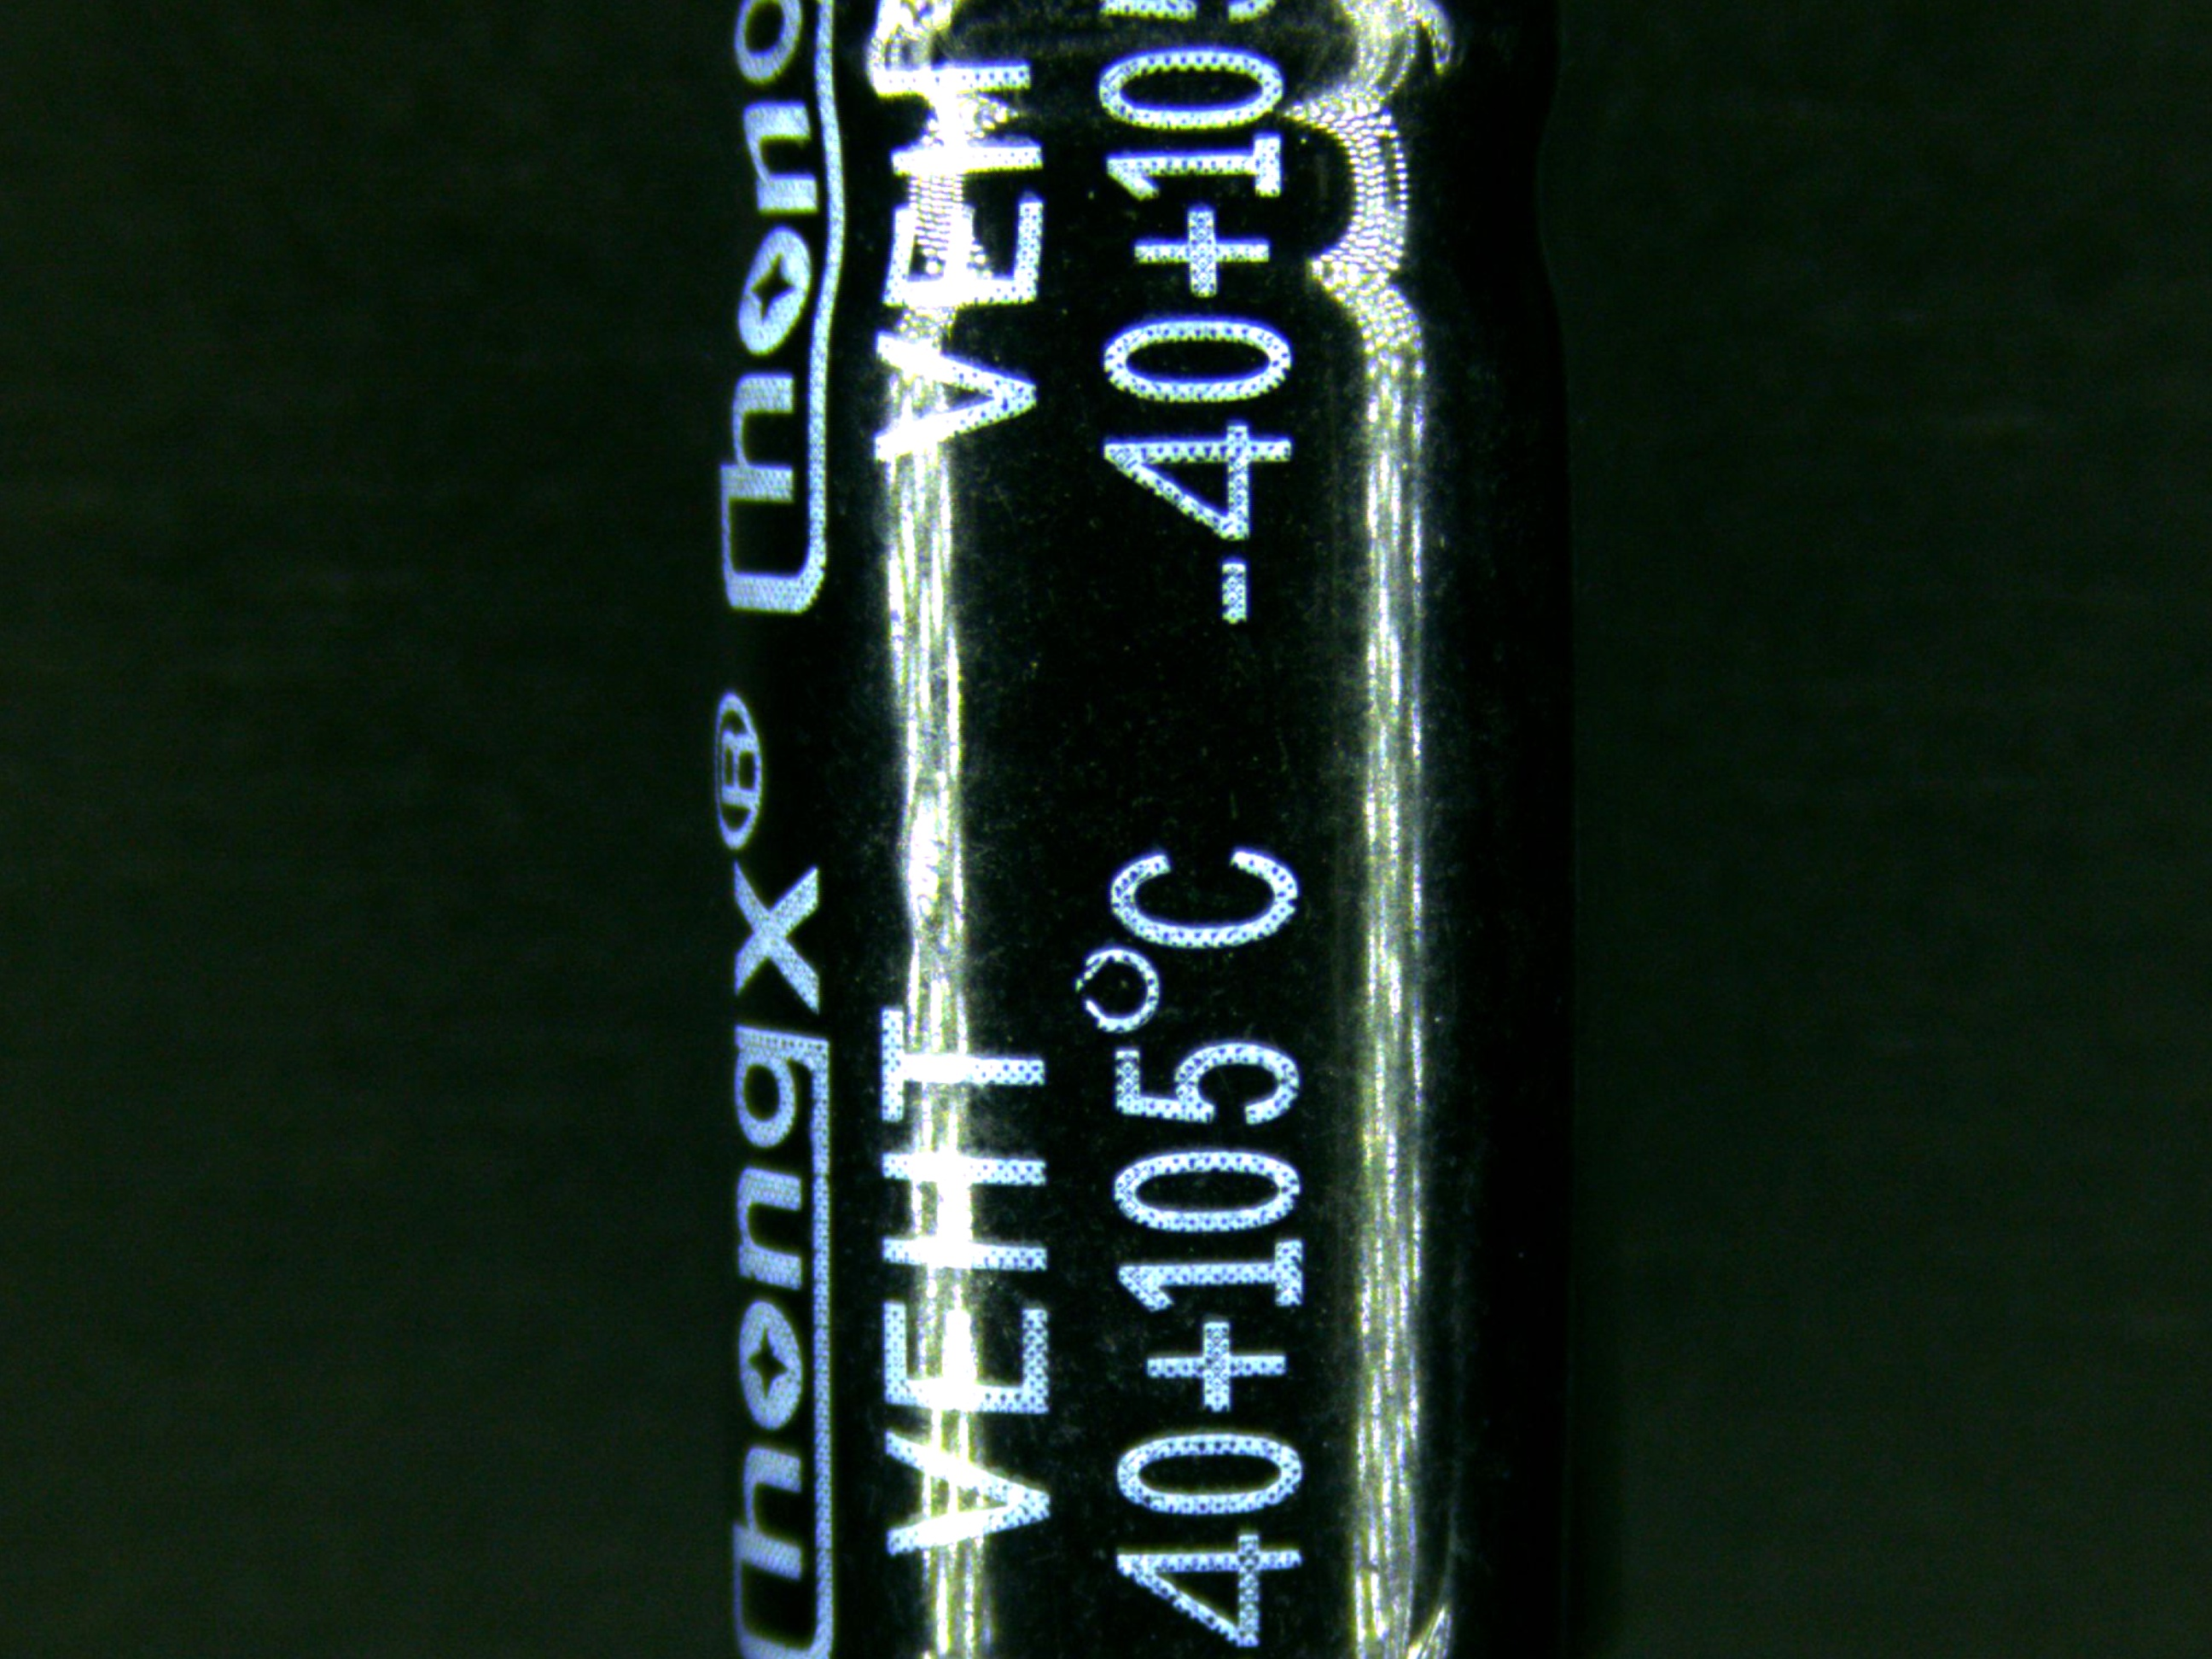c3: (685, 0, 1613, 1659)
